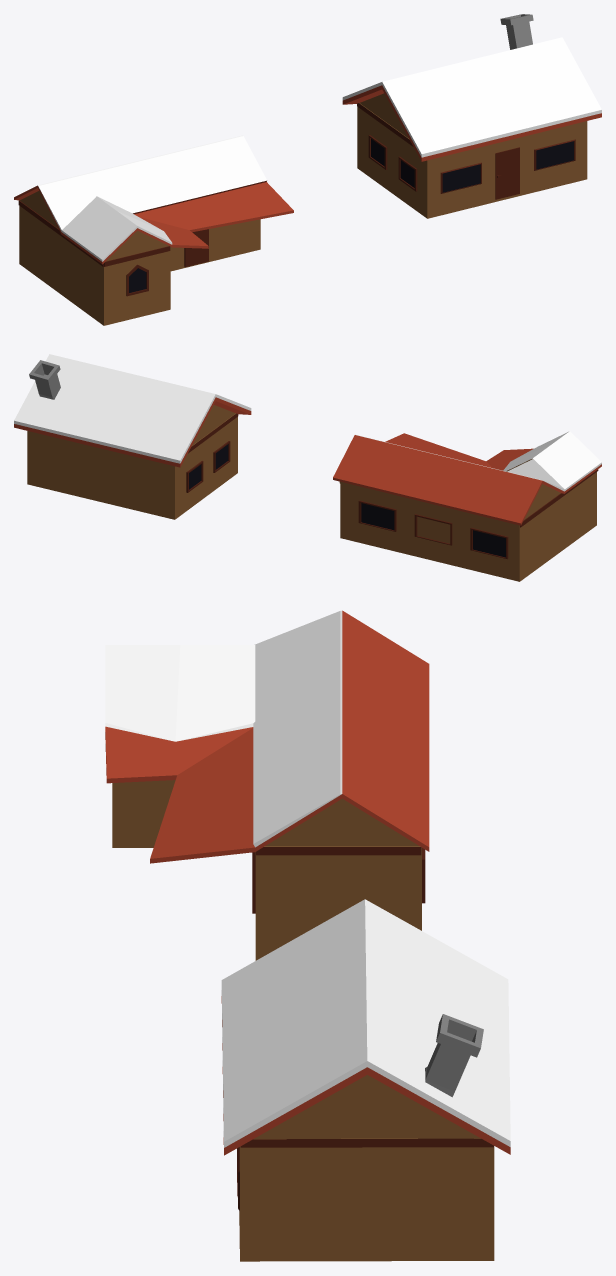
Rendered from CasaLowPoly.fbx.
3 renders of one model, top to bottom at view 1: azimuth 30°, elevation 25°; view 2: azimuth 150°, elevation 25°; view 3: azimuth 270°, elevation 25°, orthographic. The views are drawn at different scales.
Parts seen in each view (by area): view 1: CASA, Cube; view 2: Cube, CASA; view 3: CASA, Cube.
Boxes of the visible parts, <box> form: CASA: <box>342,14,601,218</box>; Cube: <box>14,135,293,325</box>; Cube: <box>333,431,601,581</box>; CASA: <box>14,354,251,519</box>; CASA: <box>221,899,510,1261</box>; Cube: <box>105,610,429,960</box>.
Bounding box in the file's own units: 4688 × 1051 × 1689.
